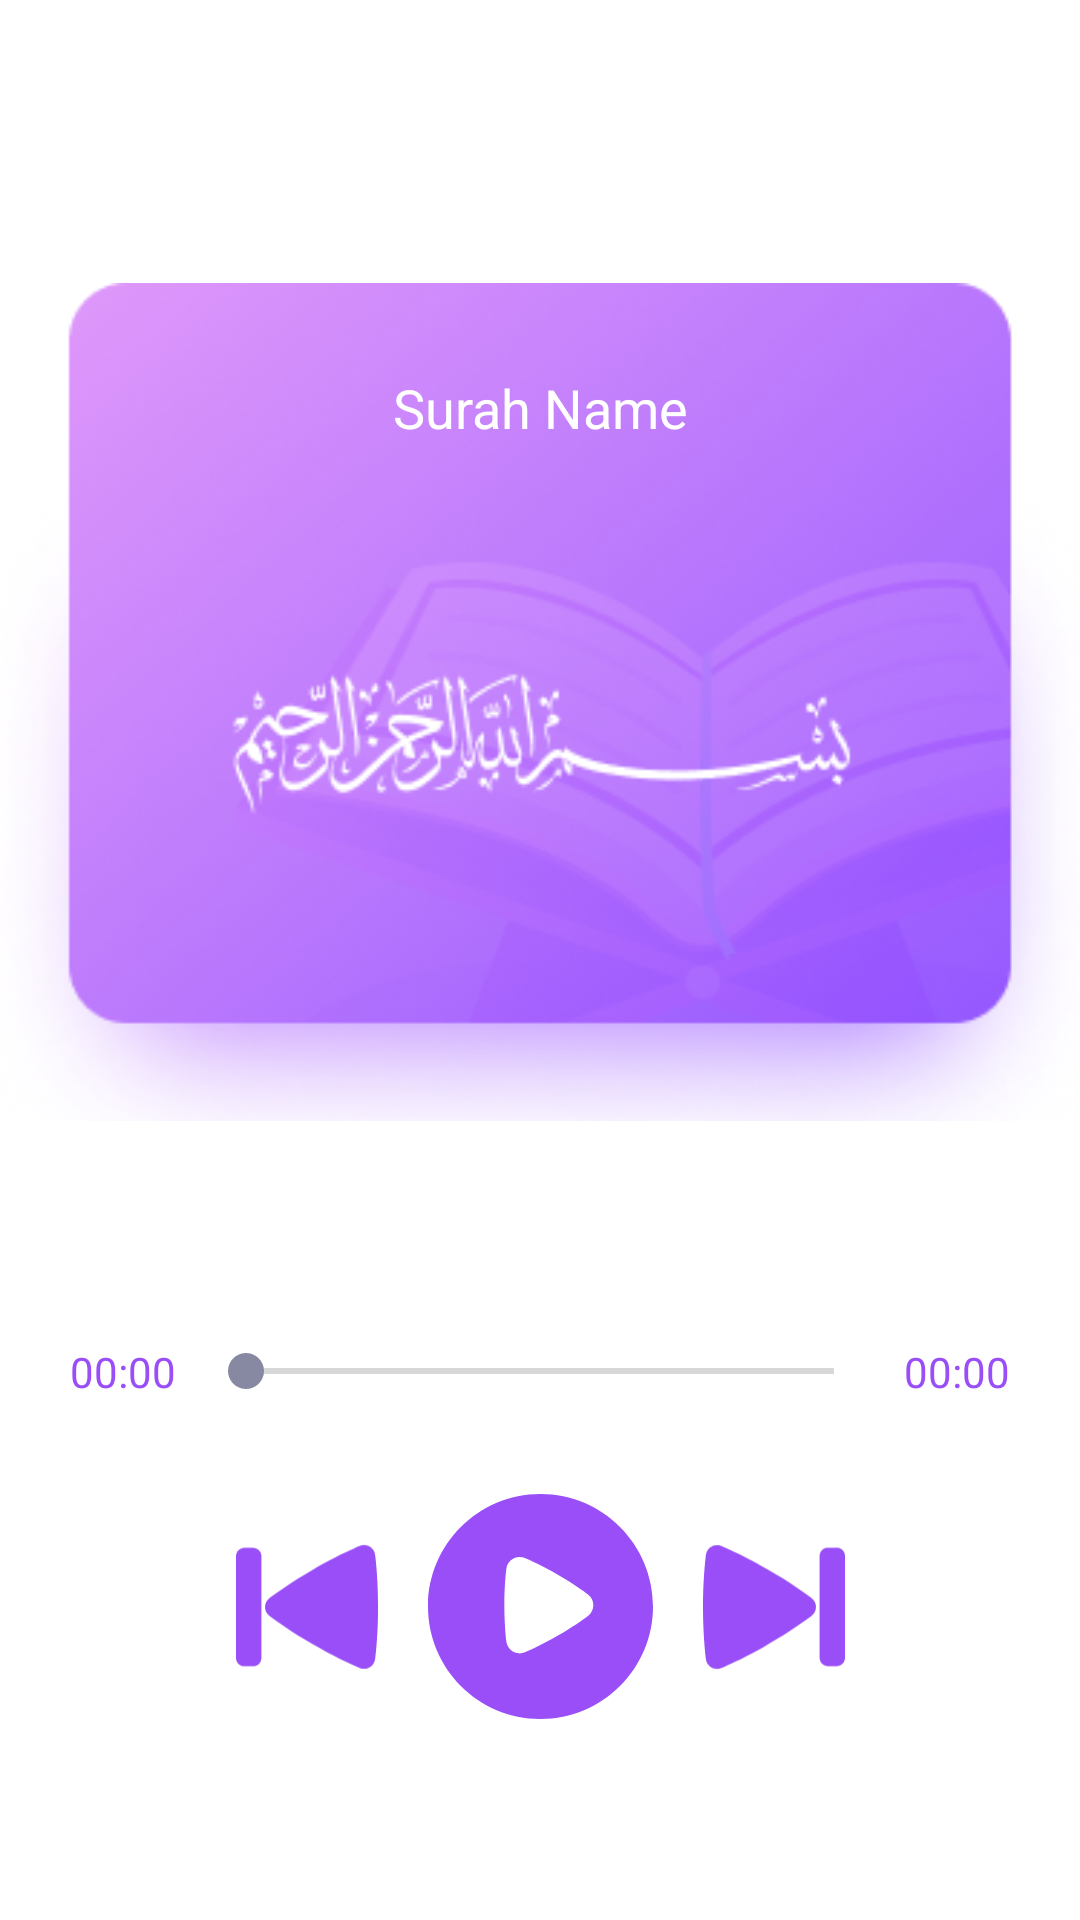

Icon bounding boxes for this 1080×1920 phone screenshot, format (x1, y1, x2, y2):
play: (428, 1494, 653, 1719)
